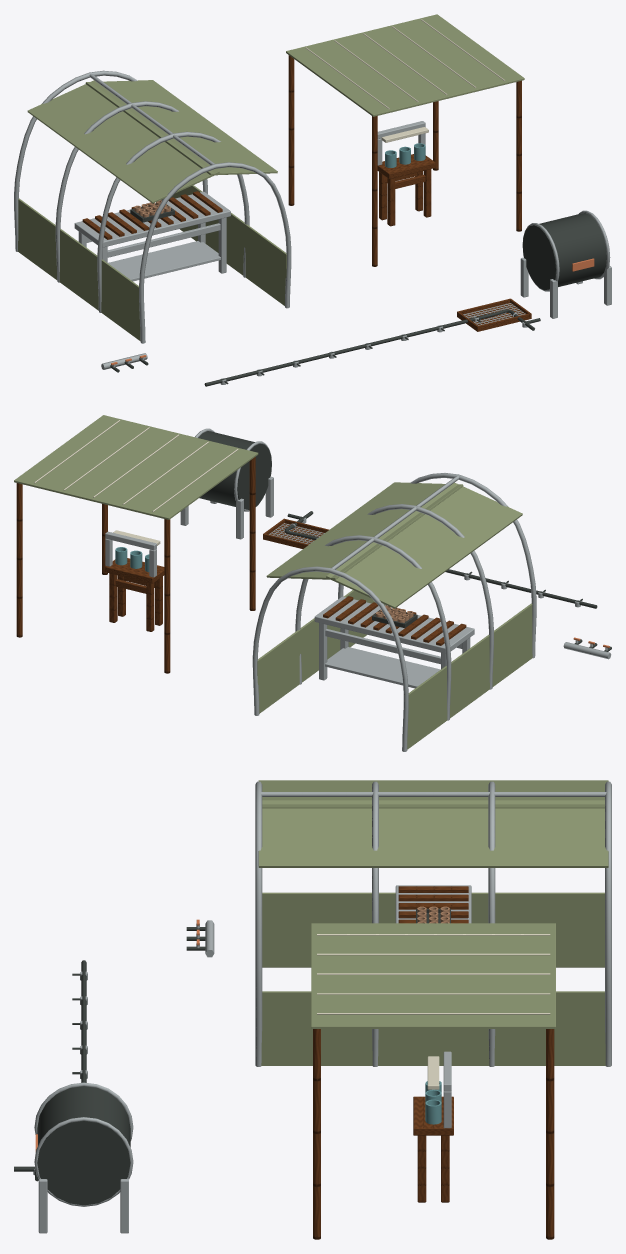
File: survival-greenhouse-and-irrigation-prote-eae68293-starter-scene__21347.glb
The picture shows the model from 3 angles, top to bottom: view 1: azimuth 30°, elevation 25°; view 2: azimuth 150°, elevation 25°; view 3: azimuth 270°, elevation 25°; orthographic projection. The views are drawn at different scales.
Visible parts, largest first — view 1: 000-hoop-growing-tunnel/1, 003-shade-cloth-canopy/1, 000-hoop-growing-tunnel/0, 001-seedling-bench/0, 005-tumbling-composter/1, 003-shade-cloth-canopy/0, 004-rooting-station/0, 001-seedling-bench/1, 005-tumbling-composter/0, 006-compost-sieve/0, 003-shade-cloth-canopy/2, 007-drip-line-2m/0 (+4 smaller); view 2: 000-hoop-growing-tunnel/1, 003-shade-cloth-canopy/1, 000-hoop-growing-tunnel/0, 001-seedling-bench/0, 003-shade-cloth-canopy/0, 004-rooting-station/0, 005-tumbling-composter/1, 001-seedling-bench/1, 005-tumbling-composter/0, 003-shade-cloth-canopy/2, 006-compost-sieve/0, 004-rooting-station/2 (+2 smaller); view 3: 000-hoop-growing-tunnel/1, 003-shade-cloth-canopy/1, 005-tumbling-composter/1, 000-hoop-growing-tunnel/0, 003-shade-cloth-canopy/0, 003-shade-cloth-canopy/2, 005-tumbling-composter/0, 004-rooting-station/0, 001-seedling-bench/1, 001-seedling-bench/0, 004-rooting-station/2, 007-drip-line-2m/0 (+1 smaller).
Part boxes in pixels (x1=…): 000-hoop-growing-tunnel/1: x1=18, y1=80, x2=286, y2=341; 003-shade-cloth-canopy/1: x1=286, y1=14, x2=524, y2=116; 000-hoop-growing-tunnel/0: x1=14, y1=70, x2=291, y2=343; 001-seedling-bench/0: x1=74, y1=191, x2=230, y2=281; 005-tumbling-composter/1: x1=522, y1=213, x2=606, y2=290; 003-shade-cloth-canopy/0: x1=288, y1=55, x2=521, y2=266; 004-rooting-station/0: x1=377, y1=154, x2=435, y2=226; 001-seedling-bench/1: x1=82, y1=191, x2=222, y2=239; 005-tumbling-composter/0: x1=520, y1=210, x2=611, y2=318; 006-compost-sieve/0: x1=457, y1=298, x2=531, y2=331; 003-shade-cloth-canopy/2: x1=305, y1=19, x2=505, y2=109; 007-drip-line-2m/0: x1=204, y1=348, x2=350, y2=386; 000-hoop-growing-tunnel/1: x1=257, y1=482, x2=532, y2=749; 003-shade-cloth-canopy/1: x1=14, y1=415, x2=258, y2=519; 000-hoop-growing-tunnel/0: x1=252, y1=473, x2=536, y2=751; 001-seedling-bench/0: x1=314, y1=596, x2=474, y2=688; 003-shade-cloth-canopy/0: x1=16, y1=457, x2=255, y2=673; 004-rooting-station/0: x1=105, y1=558, x2=164, y2=631; 005-tumbling-composter/1: x1=198, y1=431, x2=271, y2=509; 001-seedling-bench/1: x1=323, y1=596, x2=466, y2=645; 005-tumbling-composter/0: x1=180, y1=428, x2=273, y2=539; 003-shade-cloth-canopy/2: x1=34, y1=420, x2=238, y2=511; 006-compost-sieve/0: x1=263, y1=518, x2=329, y2=548; 004-rooting-station/2: x1=105, y1=531, x2=156, y2=577; 000-hoop-growing-tunnel/1: x1=258, y1=780, x2=608, y2=1065; 003-shade-cloth-canopy/1: x1=311, y1=923, x2=555, y2=1028; 005-tumbling-composter/1: x1=37, y1=1086, x2=130, y2=1205; 000-hoop-growing-tunnel/0: x1=255, y1=781, x2=611, y2=1066; 003-shade-cloth-canopy/0: x1=313, y1=1029, x2=554, y2=1239; 003-shade-cloth-canopy/2: x1=317, y1=934, x2=550, y2=1014; 005-tumbling-composter/0: x1=34, y1=1082, x2=133, y2=1233; 004-rooting-station/0: x1=413, y1=1096, x2=453, y2=1202; 001-seedling-bench/1: x1=398, y1=886, x2=468, y2=923; 001-seedling-bench/0: x1=395, y1=885, x2=471, y2=923; 004-rooting-station/2: x1=443, y1=1051, x2=451, y2=1128; 007-drip-line-2m/0: x1=72, y1=960, x2=86, y2=1060.
Bounding box in the file's own units: 6.35 × 2.13 × 5.13.
Materials: 8 (1 with a texture image).
